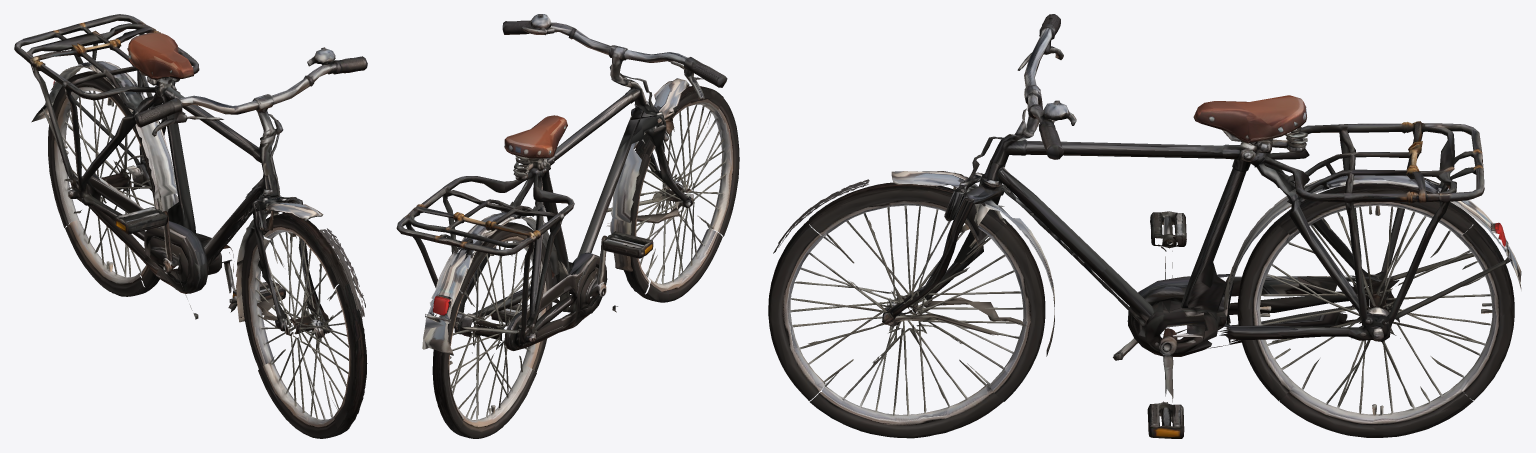
Rendered from bicycle.glb.
The picture shows the model from 3 angles, left to right: view 1: azimuth 30°, elevation 25°; view 2: azimuth 150°, elevation 25°; view 3: azimuth 270°, elevation 25°; orthographic projection. The views are drawn at different scales.
Parts seen in each view (by area): view 1: FrameFixed, WheelFront, WheelRear, Pedal_L, Crank, Pedal_R; view 2: FrameFixed, WheelFront, WheelRear, Pedal_L, Crank; view 3: FrameFixed, WheelFront, WheelRear, Pedal_R, Pedal_L, Crank.
Part boxes in pixels (x1,y1,x2,y2): FrameFixed: (14,14,367,338); WheelFront: (241,213,367,438); WheelRear: (48,71,162,296); Pedal_L: (114,207,167,234); Crank: (163,211,235,293); Pedal_R: (228,280,285,312); FrameFixed: (396,14,727,355); WheelFront: (624,86,739,302); WheelRear: (432,222,552,438); Pedal_L: (602,231,653,258); Crank: (551,235,606,296); FrameFixed: (773,14,1521,360); WheelFront: (768,182,1045,438); WheelRear: (1237,183,1514,437); Pedal_R: (1147,401,1184,438); Pedal_L: (1150,211,1186,248); Crank: (1159,236,1177,402).
Bounding box in the file's own units: 0.833 × 1.1 × 1.96.
Materials: 1 (1 with a texture image).
